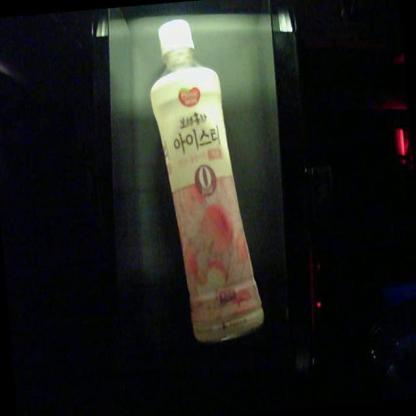Plastic Bottle: (152, 19, 264, 343)
